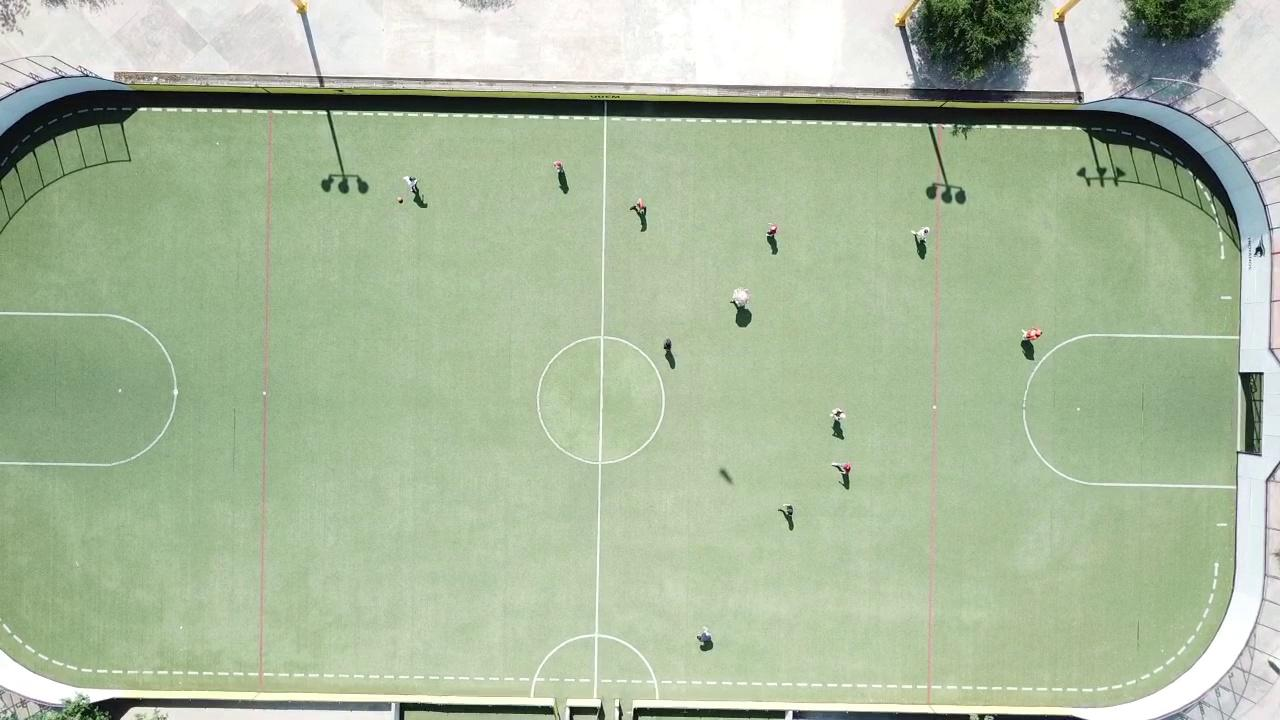ball: (397, 196, 403, 203)
player: (732, 288, 752, 308), (911, 227, 931, 245), (831, 461, 852, 476), (404, 175, 419, 195), (1022, 327, 1043, 341), (698, 627, 712, 645), (630, 198, 645, 214), (830, 408, 846, 423), (766, 223, 778, 237), (782, 503, 795, 515), (663, 338, 672, 354), (554, 160, 563, 171)
